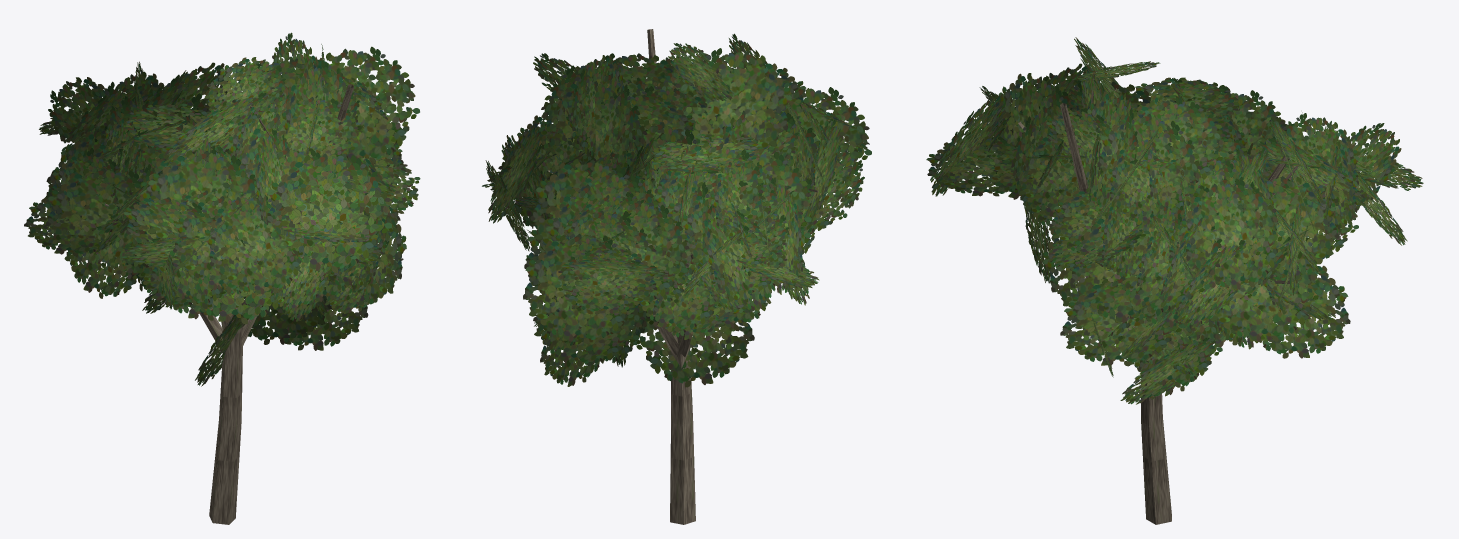
The model's file is CommonTree_5_LOD1.gltf.
3 renders of one model, left to right at view 1: azimuth 30°, elevation 25°; view 2: azimuth 150°, elevation 25°; view 3: azimuth 270°, elevation 25°, orthographic. The views are drawn at different scales.
Parts seen in each view (by area): view 1: CommonTree_5_LOD1; view 2: CommonTree_5_LOD1; view 3: CommonTree_5_LOD1.
Part boxes in pixels (x1,y1,x2,y2): CommonTree_5_LOD1: (24, 32, 420, 524); CommonTree_5_LOD1: (482, 29, 871, 524); CommonTree_5_LOD1: (926, 37, 1423, 524).
Size of the model in its own units: 14.76 by 17.09 by 17.43.
2 materials, 2 textured.
